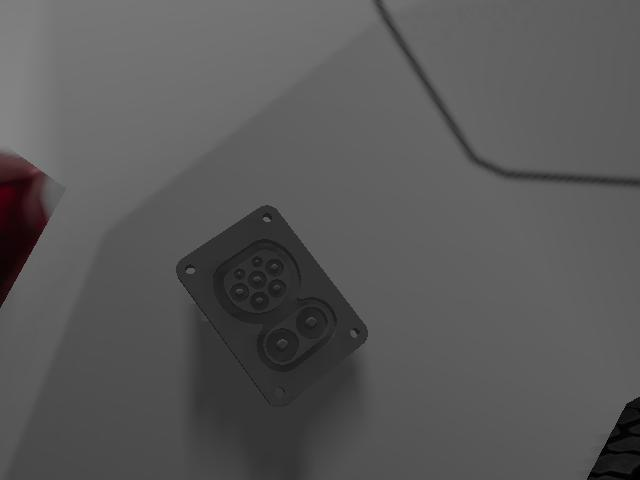EV-socket: (173, 203, 371, 410)
